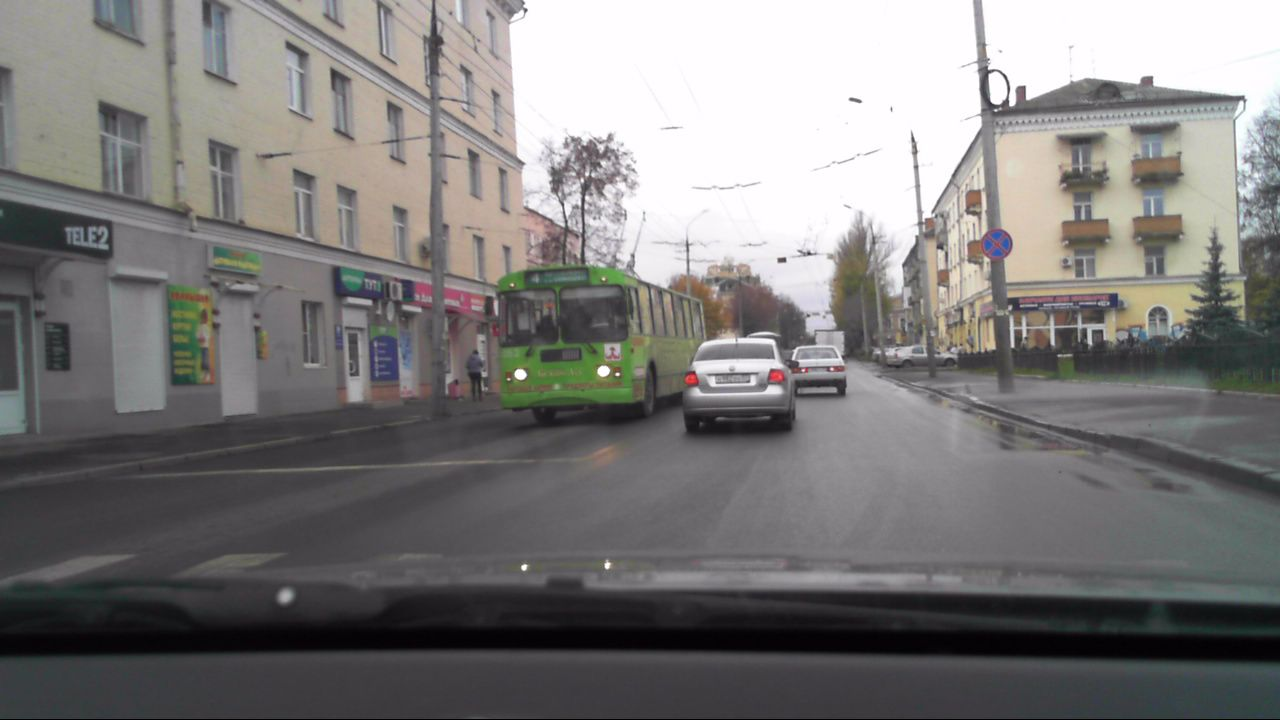No Parking: (978, 227, 1015, 264)
